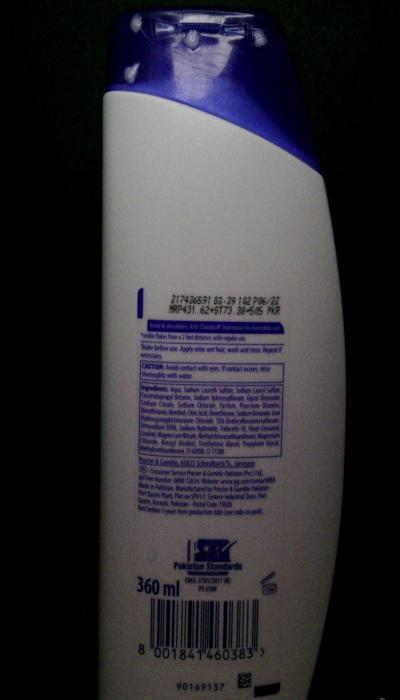pob_marg: (174, 25, 206, 58), (116, 57, 146, 90), (138, 543, 167, 570), (123, 11, 150, 38), (245, 25, 270, 54), (154, 14, 177, 44)
